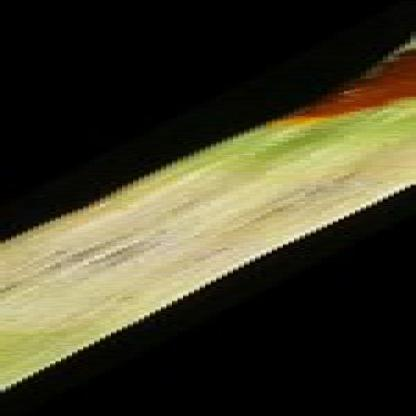wheat Stem Rust: (359, 61, 415, 125), (269, 110, 346, 130)
